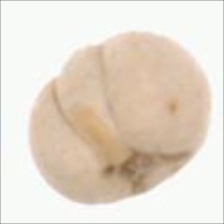L5: (48, 43, 128, 163), (109, 149, 196, 200)
L6: (26, 29, 211, 206)
